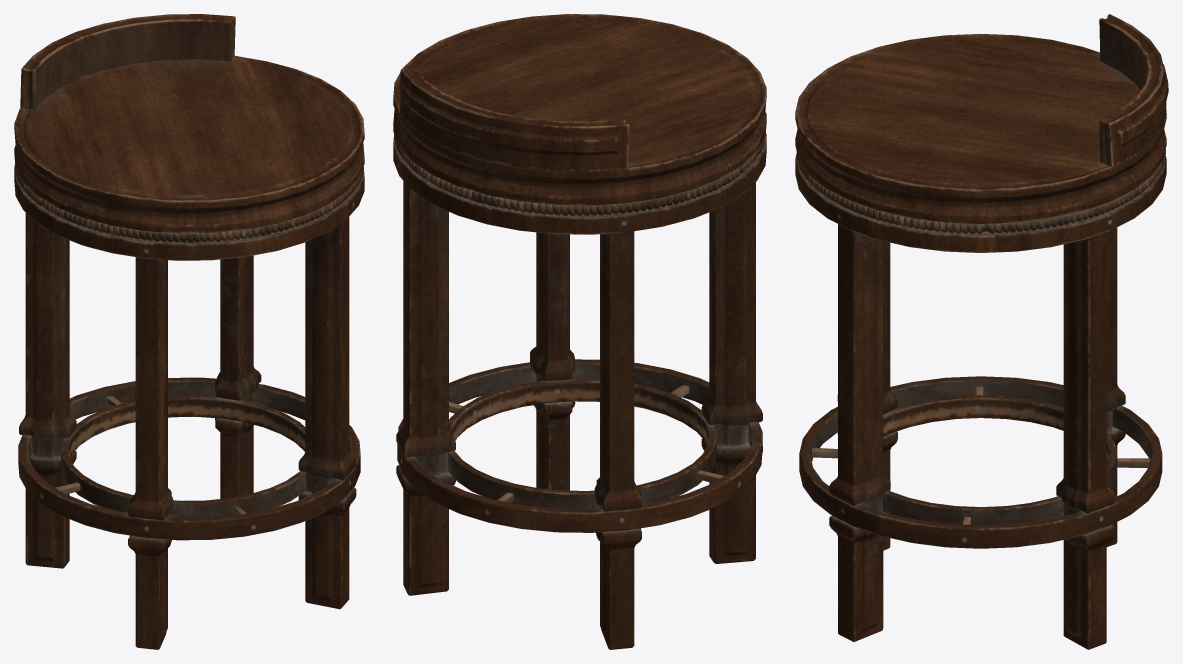
Rendered from bar_chair_round_01.glb.
3 views of the same model, side by side, from view 1: azimuth 30°, elevation 25°; view 2: azimuth 150°, elevation 25°; view 3: azimuth 270°, elevation 25° (orthographic). The views are drawn at different scales.
Visible parts, largest first — view 1: bar_chair_round_01; view 2: bar_chair_round_01; view 3: bar_chair_round_01.
Part boxes in pixels (<box>): bar_chair_round_01: <box>14,14,364,649</box>; bar_chair_round_01: <box>393,14,766,649</box>; bar_chair_round_01: <box>795,14,1168,649</box>.
Bounding box in the file's own units: 0.4832 × 0.7505 × 0.486.
Materials: 1 (1 with a texture image).
